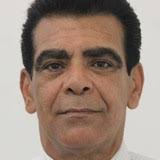middle_eastern_male: (31, 17, 136, 152)
